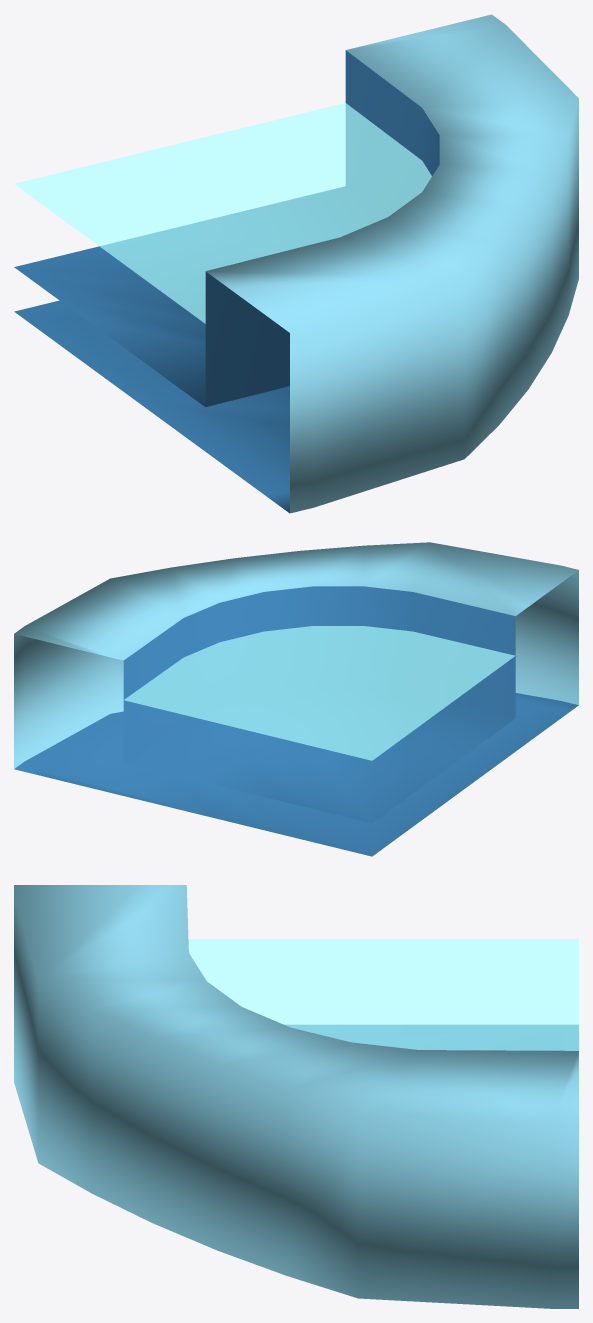
The model's file is track_corner.glb.
The picture shows the model from 3 angles, top to bottom: view 1: azimuth 30°, elevation 25°; view 2: azimuth 150°, elevation 25°; view 3: azimuth 270°, elevation 25°; orthographic projection. The views are drawn at different scales.
Parts seen in each view (by area): view 1: Track_Corner; view 2: Track_Corner; view 3: Track_Corner.
Boxes of the visible parts, x1,y1,x2,y2 form: Track_Corner: [14, 14, 578, 513]; Track_Corner: [14, 542, 578, 856]; Track_Corner: [14, 885, 578, 1308].
Size of the model in its own units: 1.44 by 0.52 by 1.44.
